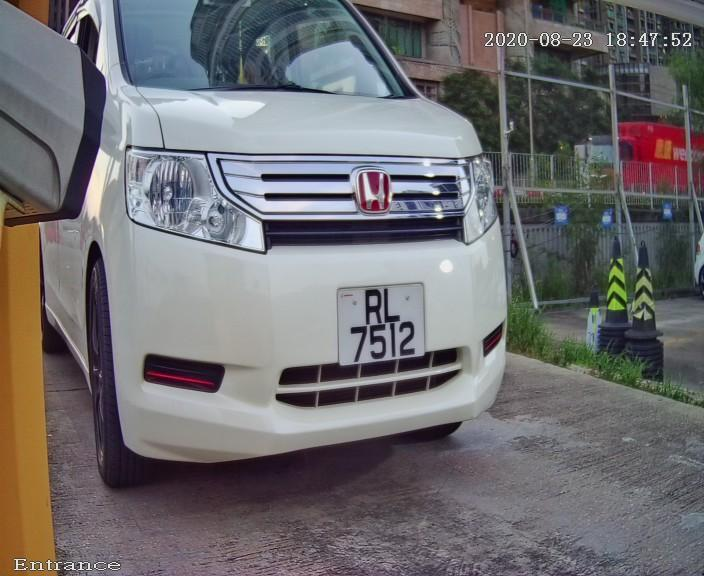Car: (10, 3, 560, 502)
License Plate: (310, 259, 451, 395)
